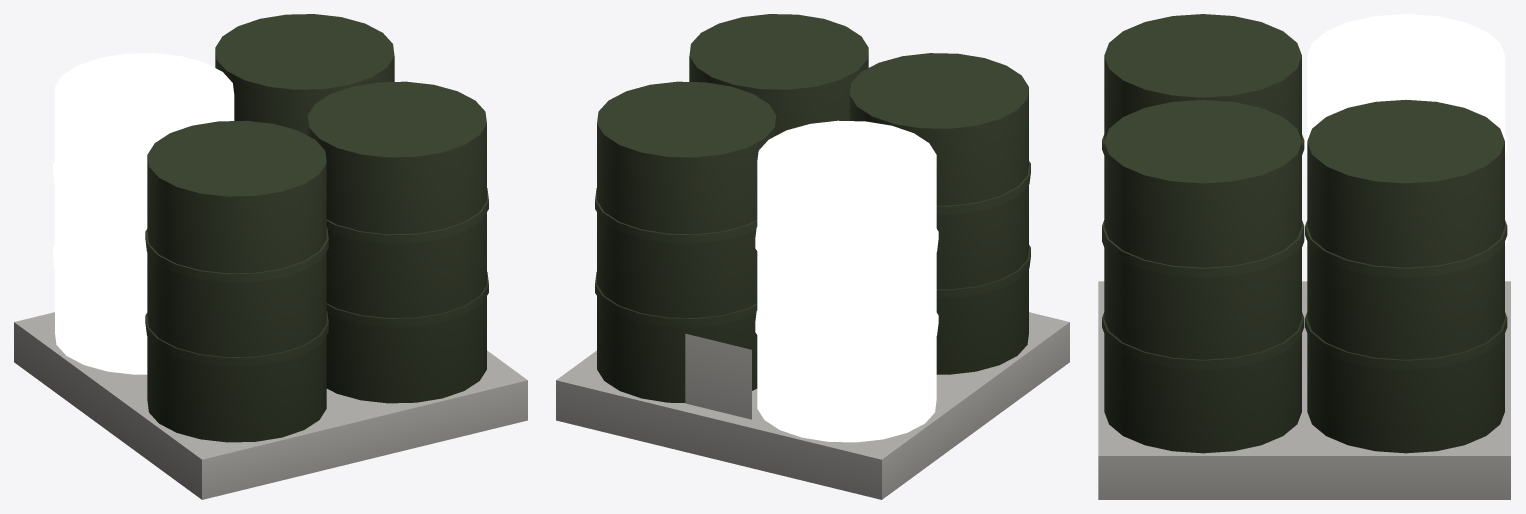
File: drum_pallet.glb
3 renders of one model, left to right at view 1: azimuth 30°, elevation 25°; view 2: azimuth 150°, elevation 25°; view 3: azimuth 270°, elevation 25°, orthographic. The views are drawn at different scales.
Visible parts, largest first — view 1: drum_pallet_LOD0; view 2: drum_pallet_LOD0; view 3: drum_pallet_LOD0.
Boxes of the visible parts, x1,y1,x2,y2 form: drum_pallet_LOD0: (14, 14, 527, 499); drum_pallet_LOD0: (556, 14, 1069, 499); drum_pallet_LOD0: (1098, 14, 1510, 499).
Size of what is drawn, in the model's own units: 1.22 by 1.02 by 1.22.
